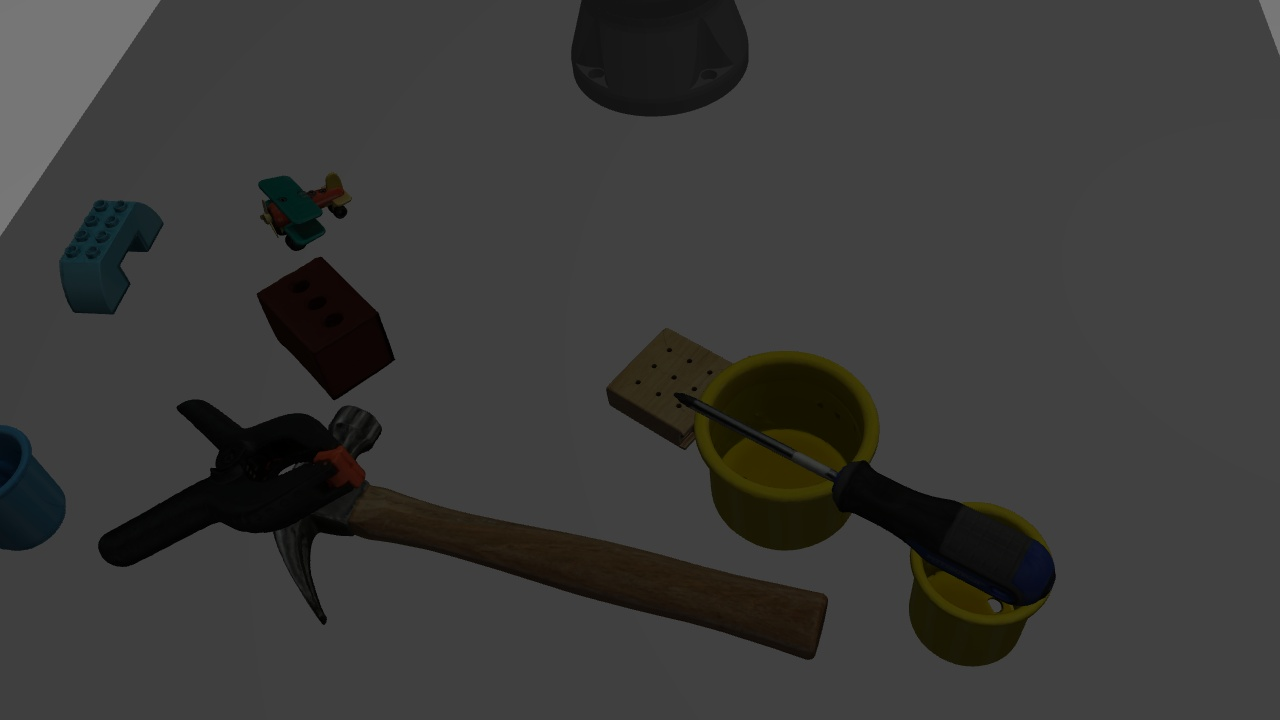hammer: (270, 403, 829, 664)
nine_hole_peg_test: (608, 317, 736, 431)
